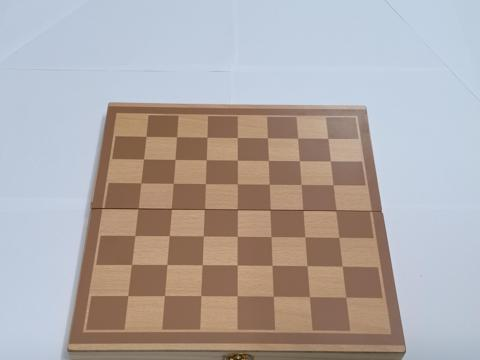xcorner: (329, 181, 339, 191), (323, 134, 333, 144), (304, 263, 314, 273), (263, 156, 273, 166), (262, 133, 272, 143), (233, 262, 243, 272), (232, 180, 242, 190), (197, 262, 207, 272), (167, 179, 177, 189), (170, 132, 180, 142), (126, 261, 136, 271), (129, 232, 139, 242), (340, 263, 349, 273), (336, 234, 345, 244), (332, 207, 342, 216), (326, 157, 335, 167), (307, 294, 316, 304), (299, 207, 309, 216), (270, 294, 280, 303), (267, 234, 277, 243), (266, 206, 275, 216), (264, 181, 274, 190), (233, 294, 243, 303), (233, 233, 242, 243), (232, 206, 242, 215), (232, 133, 241, 143), (197, 293, 206, 303), (198, 233, 208, 242), (200, 156, 210, 165), (166, 205, 175, 215), (169, 155, 178, 165), (123, 292, 132, 302), (132, 205, 142, 214), (135, 179, 144, 189), (137, 155, 147, 164), (140, 132, 149, 142), (344, 295, 353, 304), (302, 234, 311, 243), (297, 181, 306, 190), (295, 157, 304, 166), (293, 134, 302, 143), (269, 263, 278, 272), (232, 156, 241, 165), (199, 206, 208, 215), (200, 180, 209, 189), (201, 133, 210, 142), (160, 293, 169, 302), (162, 262, 171, 271), (164, 233, 173, 242)
